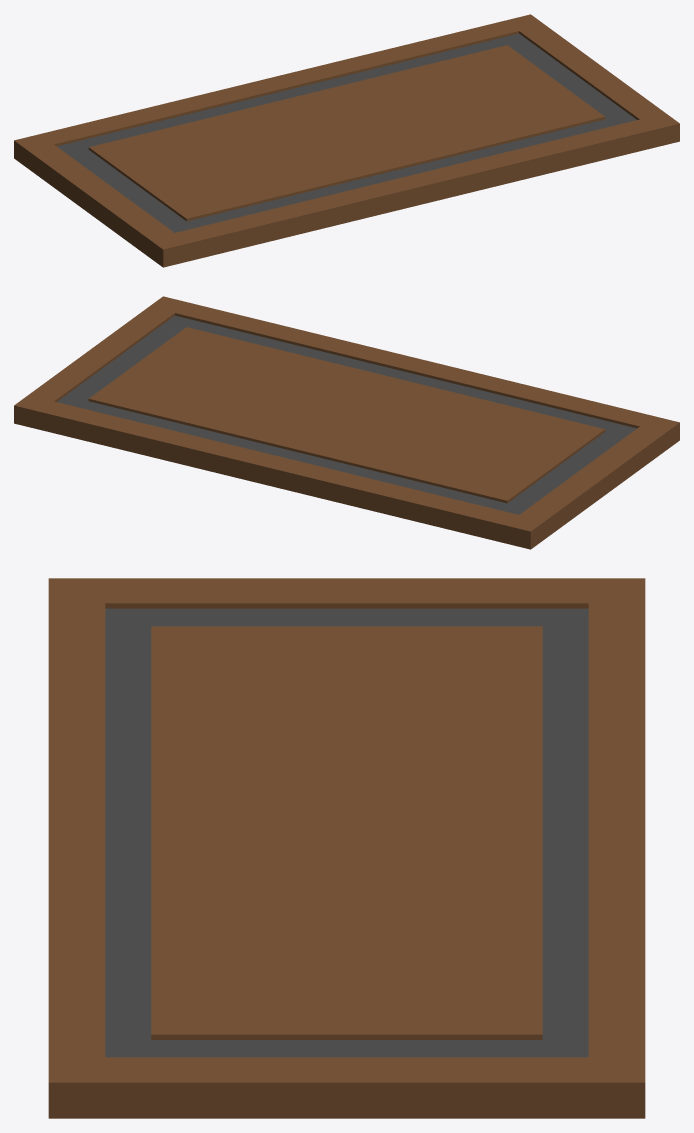
File: Welcome Mat.fbx
The picture shows the model from 3 angles, top to bottom: view 1: azimuth 30°, elevation 25°; view 2: azimuth 150°, elevation 25°; view 3: azimuth 270°, elevation 25°; orthographic projection. The views are drawn at different scales.
Visible parts, largest first — view 1: Welcome Mat; view 2: Welcome Mat; view 3: Welcome Mat.
Boxes of the visible parts, x1,y1,x2,y2 form: Welcome Mat: (14,14,679,267); Welcome Mat: (14,296,679,549); Welcome Mat: (48,578,645,1118).
Size of the model in its own units: 600 by 20 by 300.
